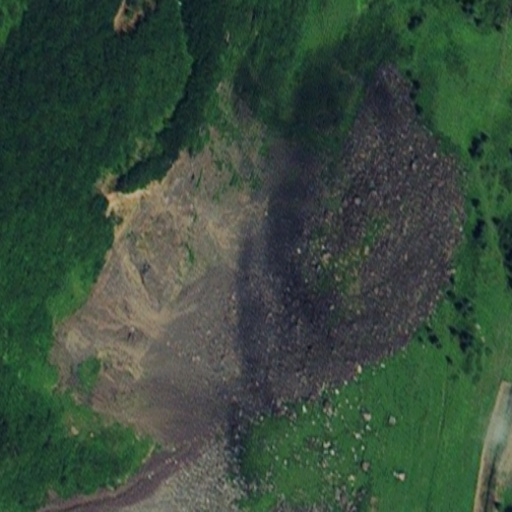landslide: (60, 149, 254, 376)
